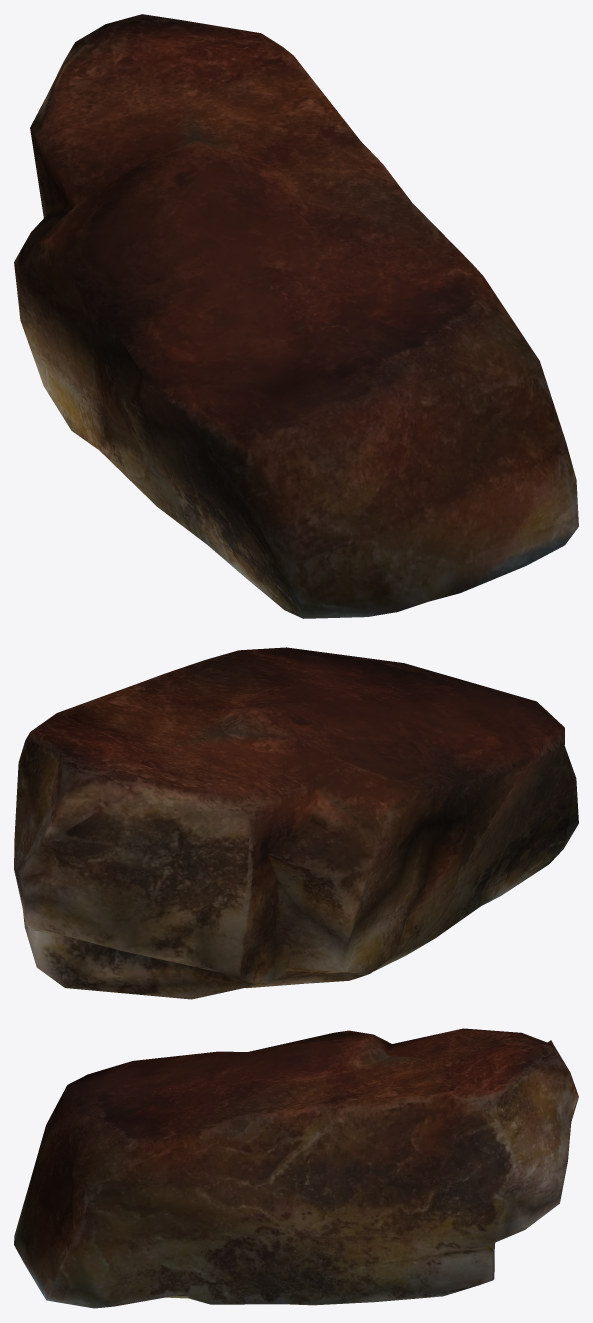
Rendered from rock_07.glb.
3 renders of one model, top to bottom at view 1: azimuth 30°, elevation 25°; view 2: azimuth 150°, elevation 25°; view 3: azimuth 270°, elevation 25°, orthographic. The views are drawn at different scales.
Parts seen in each view (by area): view 1: rock_07; view 2: rock_07; view 3: rock_07.
Part boxes in pixels (left/top/right/bottom): rock_07: left=14, top=14, right=578, bottom=618; rock_07: left=14, top=647, right=578, bottom=999; rock_07: left=14, top=1028, right=578, bottom=1308.
Bounding box in the file's own units: 0.1667 × 0.1409 × 0.3194.
Materials: 1 (1 with a texture image).
